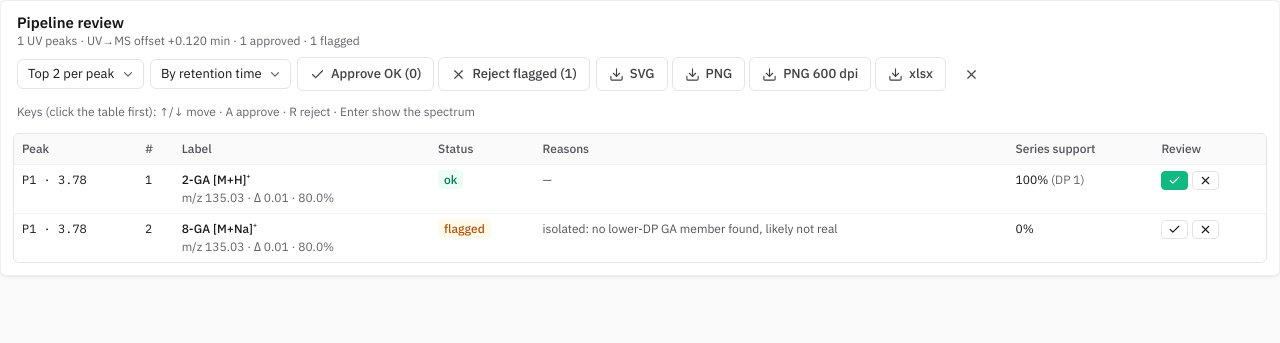
Scenario: PipelineReviewPanel › lists the kept candidates with status, reasons and series support
Check: the text "2-GA [M+H]⁺" is shown, box 182,172 -> 250,187
Check: the text "flagged" is shown, box 438,219 -> 491,238
Select "All candidates" in the dropdown named "Show": (80, 74) 17,59 -> 144,89
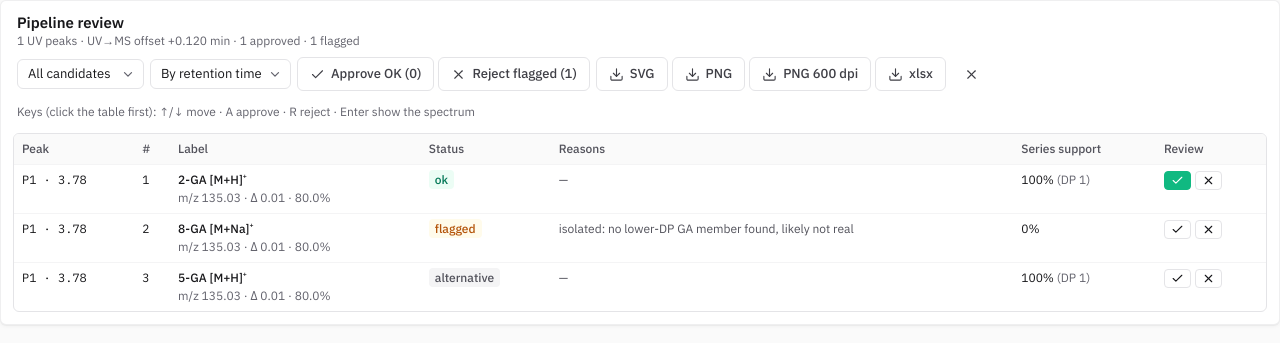
Check: the text "5-GA [M+H]⁺" is shown, box 178,270 -> 247,285
